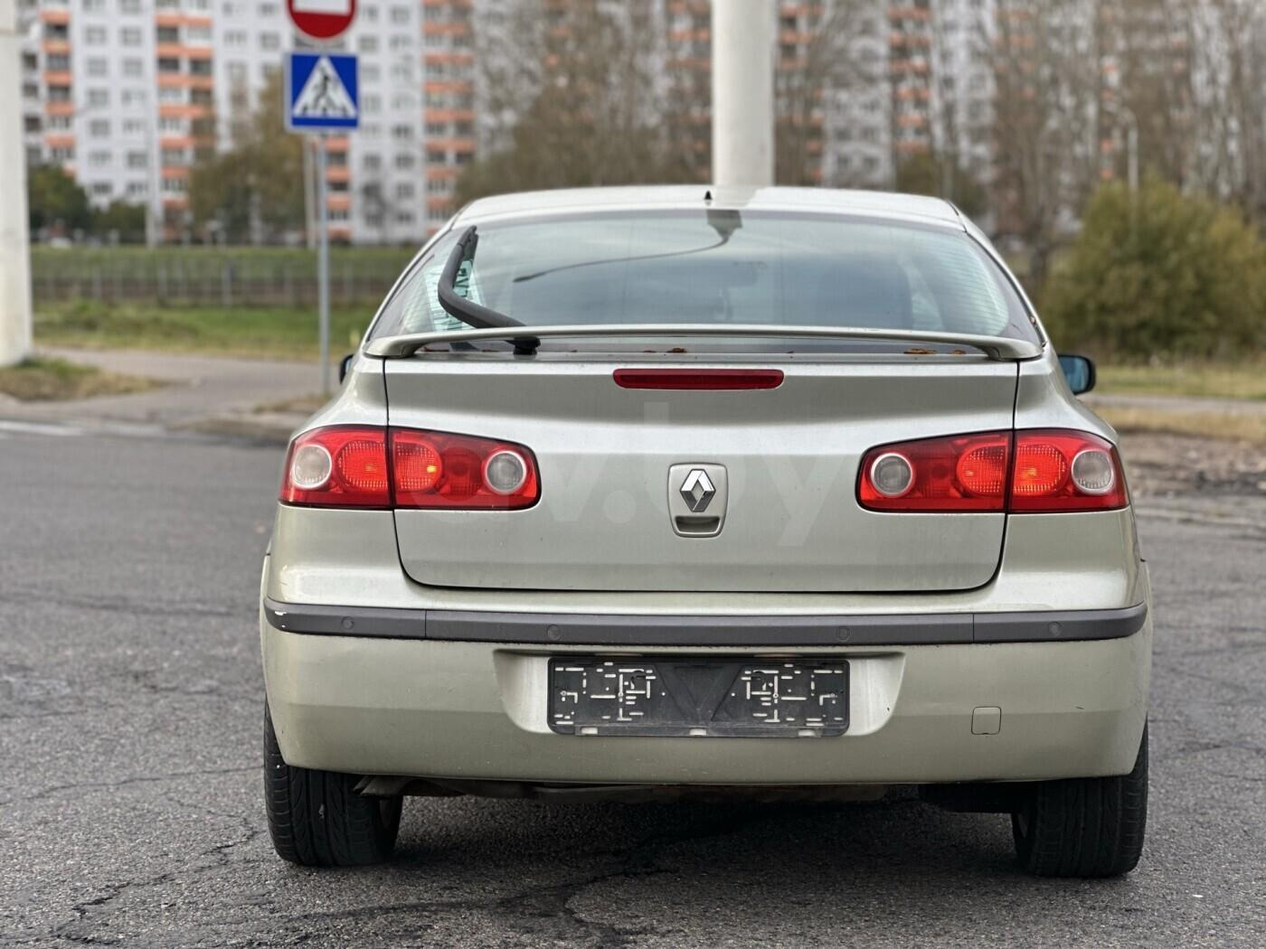Laguna_2005-2007: (234, 176, 1169, 897)
